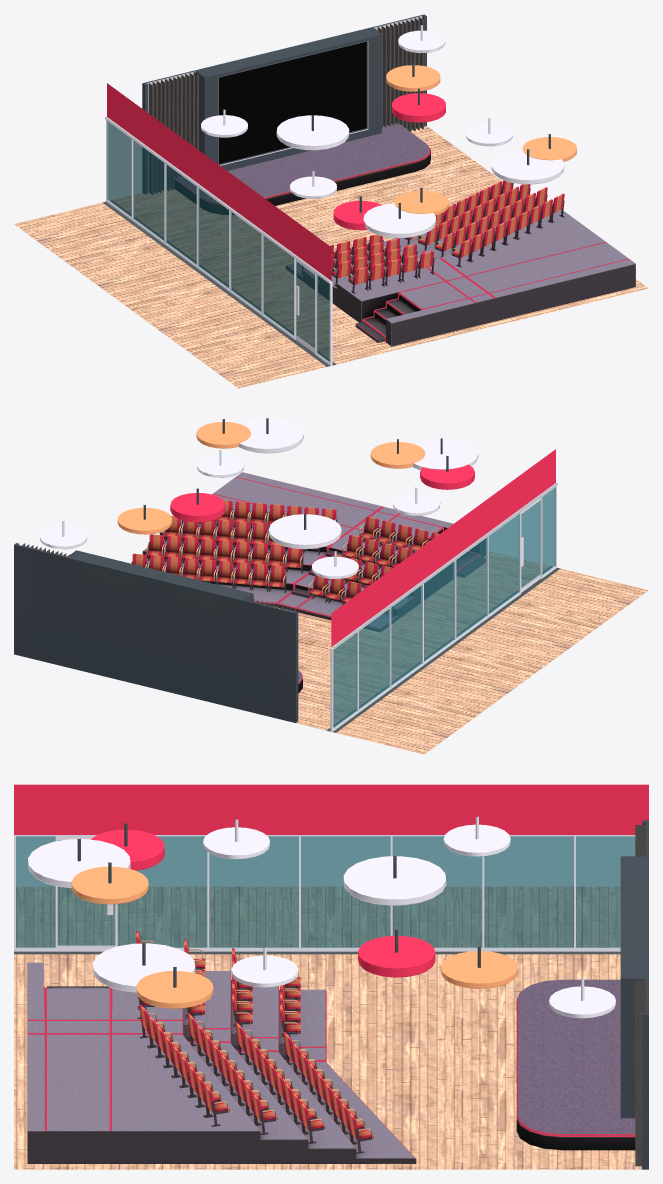
The model's file is TeachingCommunityInteriorTeachingRoom01.glb.
3 views of the same model, one above another, from view 1: azimuth 30°, elevation 25°; view 2: azimuth 150°, elevation 25°; view 3: azimuth 270°, elevation 25° (orthographic). The views are drawn at different scales.
Visible parts, largest first — view 1: TCV_TeachingRoomFloor, TCV_TeachingRoomScreen, TCV_ExampleTeachingRoomChairsStage1, TCV_TeachingRoomGlass, TCV_TeachingRoomWindowFrames, TCV_TeachingRoomRoofDetail, TCV_ExampleTeachingRoomStage1.001, TCV_TeachingRoom.001, TCV_TeachingRoomDoor, TCV_ExampleTeachingRoomStage1; view 2: TCV_TeachingRoomFloor, TCV_TeachingRoomScreen, TCV_TeachingRoomGlass, TCV_TeachingRoomWindowFrames, TCV_TeachingRoomRoofDetail, TCV_ExampleTeachingRoomChairsStage1, TCV_TeachingRoom.001, TCV_TeachingRoomDoor; view 3: TCV_TeachingRoomFloor, TCV_TeachingRoomGlass, TCV_ExampleTeachingRoomChairsStage1, TCV_TeachingRoomWindowFrames, TCV_TeachingRoomRoofDetail, TCV_ExampleTeachingRoomStage1.001, TCV_TeachingRoomScreen, TCV_TeachingRoom.001, TCV_TeachingRoomDoor, TCV_ExampleTeachingRoomStage1.
Part boxes in pixels (left/top/right/bottom): TCV_TeachingRoomFloor: left=14, top=126, right=648, bottom=388; TCV_TeachingRoomScreen: left=142, top=14, right=426, bottom=194; TCV_ExampleTeachingRoomChairsStage1: left=286, top=185, right=635, bottom=346; TCV_TeachingRoomGlass: left=107, top=121, right=329, bottom=362; TCV_TeachingRoomWindowFrames: left=105, top=83, right=332, bottom=365; TCV_TeachingRoomRoofDetail: left=276, top=62, right=576, bottom=238; TCV_ExampleTeachingRoomStage1.001: left=174, top=123, right=430, bottom=213; TCV_TeachingRoom.001: left=201, top=25, right=512, bottom=198; TCV_TeachingRoomDoor: left=295, top=259, right=314, bottom=353; TCV_ExampleTeachingRoomStage1: left=210, top=146, right=430, bottom=214; TCV_TeachingRoomFloor: left=275, top=551, right=648, bottom=754; TCV_TeachingRoomScreen: left=14, top=543, right=298, bottom=722; TCV_TeachingRoomGlass: left=333, top=487, right=555, bottom=728; TCV_TeachingRoomWindowFrames: left=330, top=449, right=557, bottom=731; TCV_TeachingRoomRoofDetail: left=117, top=418, right=478, bottom=549; TCV_ExampleTeachingRoomChairsStage1: left=142, top=472, right=485, bottom=631; TCV_TeachingRoom.001: left=40, top=450, right=440, bottom=579; TCV_TeachingRoomDoor: left=521, top=498, right=540, bottom=592; TCV_TeachingRoomFloor: left=14, top=887, right=641, bottom=1169; TCV_TeachingRoomGlass: left=16, top=836, right=635, bottom=948; TCV_ExampleTeachingRoomChairsStage1: left=27, top=962, right=416, bottom=1163; TCV_TeachingRoomWindowFrames: left=14, top=784, right=648, bottom=951; TCV_TeachingRoomRoofDetail: left=28, top=823, right=517, bottom=1008; TCV_ExampleTeachingRoomStage1.001: left=517, top=979, right=635, bottom=1135; TCV_TeachingRoomScreen: left=620, top=820, right=648, bottom=1169; TCV_TeachingRoom.001: left=203, top=816, right=615, bottom=1018; TCV_TeachingRoomDoor: left=57, top=835, right=115, bottom=951; TCV_ExampleTeachingRoomStage1: left=516, top=1000, right=635, bottom=1150.
Size of what is drawn, in the model's own units: 20 by 5.78 by 18.96.
Materials: 8 (7 with a texture image).
